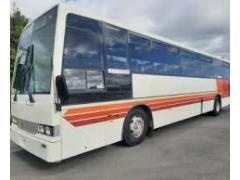bus: (6, 11, 227, 157)
